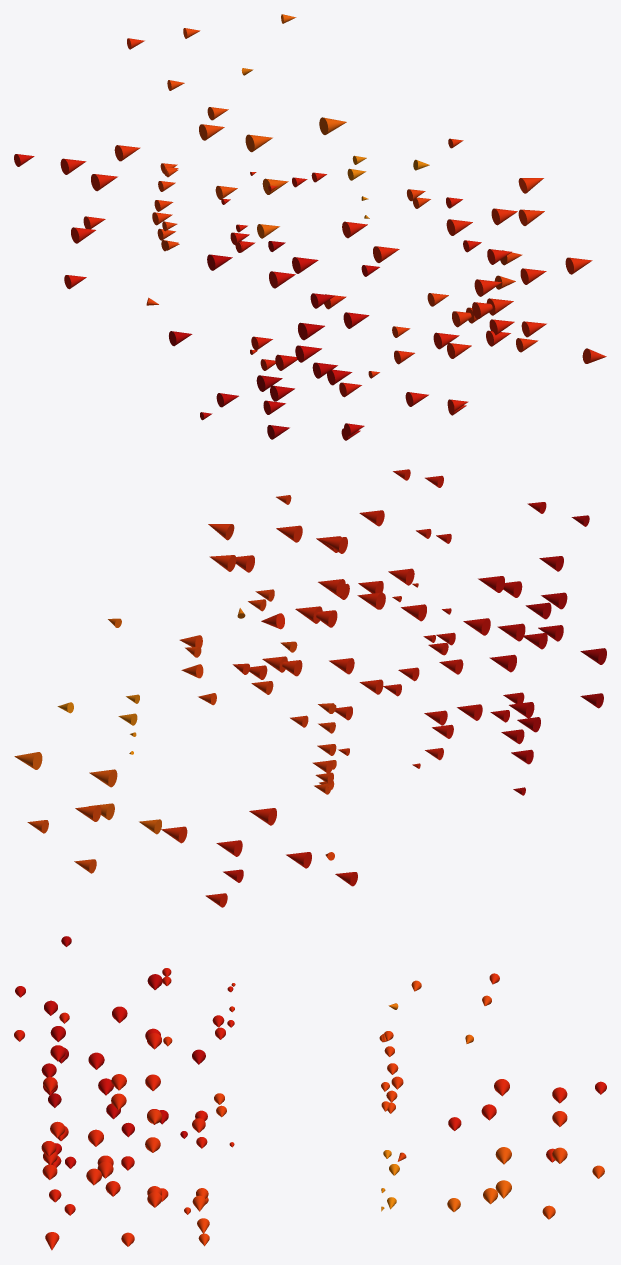
File: LineasCorrienteH2-O2_mh2-6.88_V-1.1.glb
The picture shows the model from 3 angles, top to bottom: view 1: azimuth 30°, elevation 25°; view 2: azimuth 150°, elevation 25°; view 3: azimuth 270°, elevation 25°; orthographic projection. The views are drawn at different scales.
Size of the model in its own units: 0.000788 by 0.000482 by 0.00123.
Materials: 2 (2 with a texture image).
